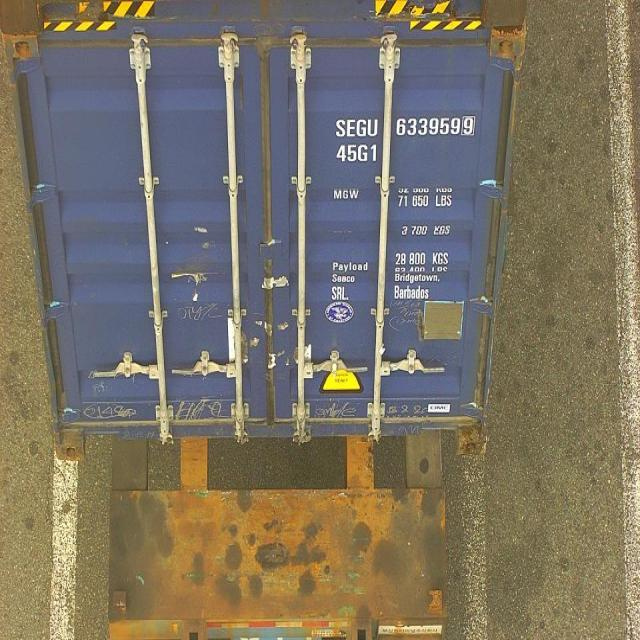ISO: (336, 142, 378, 166)
container_number: (337, 118, 475, 139)
